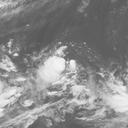cyclone: (35, 54, 67, 89)
